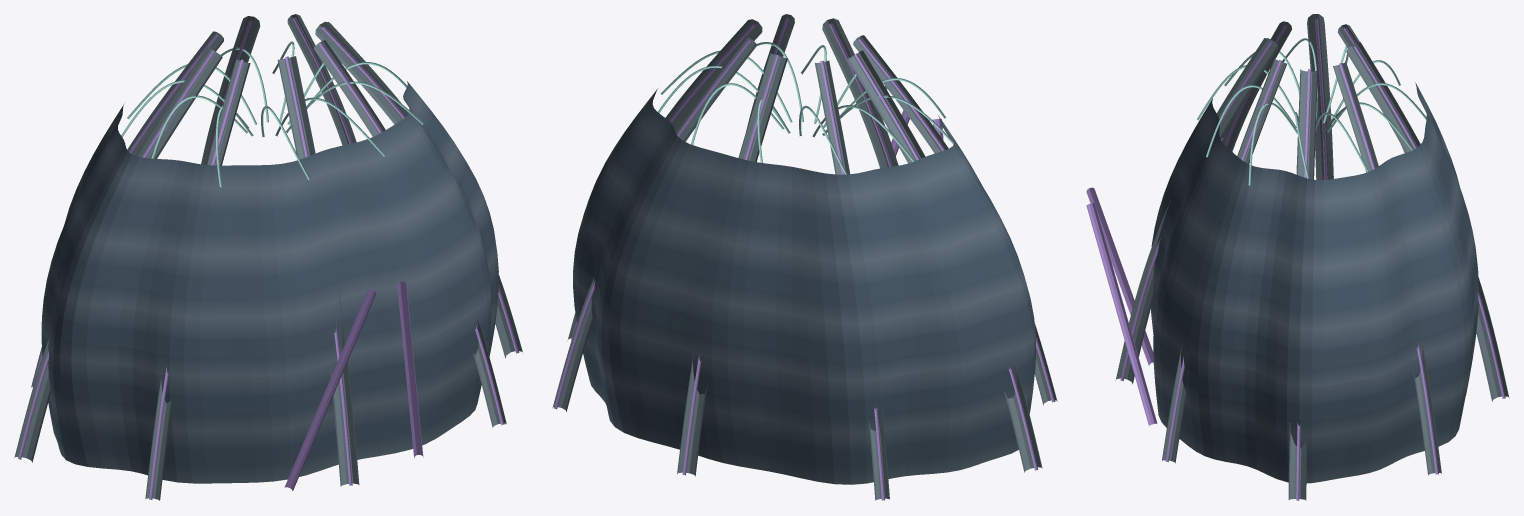
Rendered from hexcore_destination_01.glb.
3 views of the same model, side by side, from view 1: azimuth 30°, elevation 25°; view 2: azimuth 150°, elevation 25°; view 3: azimuth 270°, elevation 25° (orthographic). The views are drawn at different scales.
Visible parts, largest first — view 1: world; view 2: world; view 3: world.
Boxes of the visible parts, x1=… form: world: x1=14, y1=14, x2=522, y2=500; world: x1=552, y1=14, x2=1057, y2=500; world: x1=1086, y1=14, x2=1509, y2=500.
Size of the model in its own units: 39.11 by 28.82 by 31.06.
